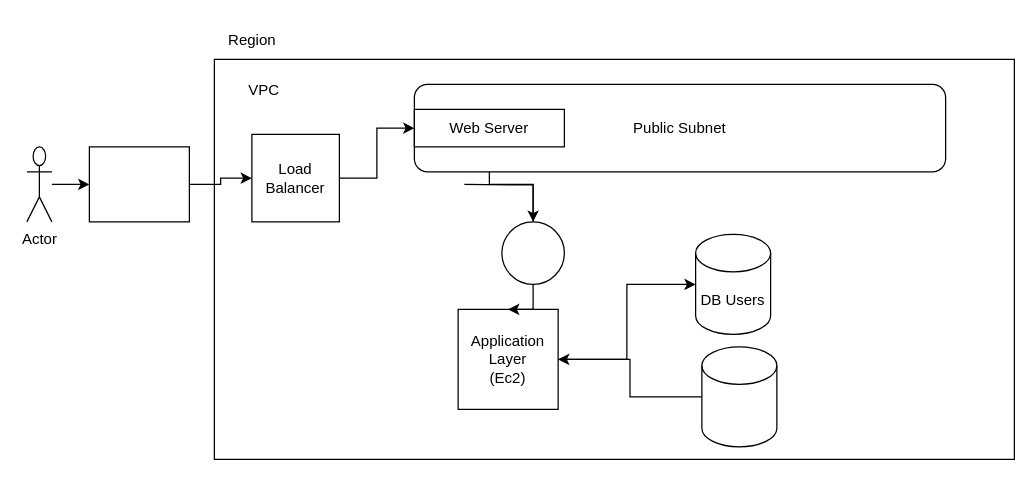
The diagram is 1036 pixels wide and 481 high, and some of its shapes have lost their labels. The box of each missing label's shape, as (x1, y1, x2, y2) in pixels:
API: (501, 221, 564, 284)
DB Movies: (701, 346, 777, 447)
DNS: (88, 146, 189, 222)
